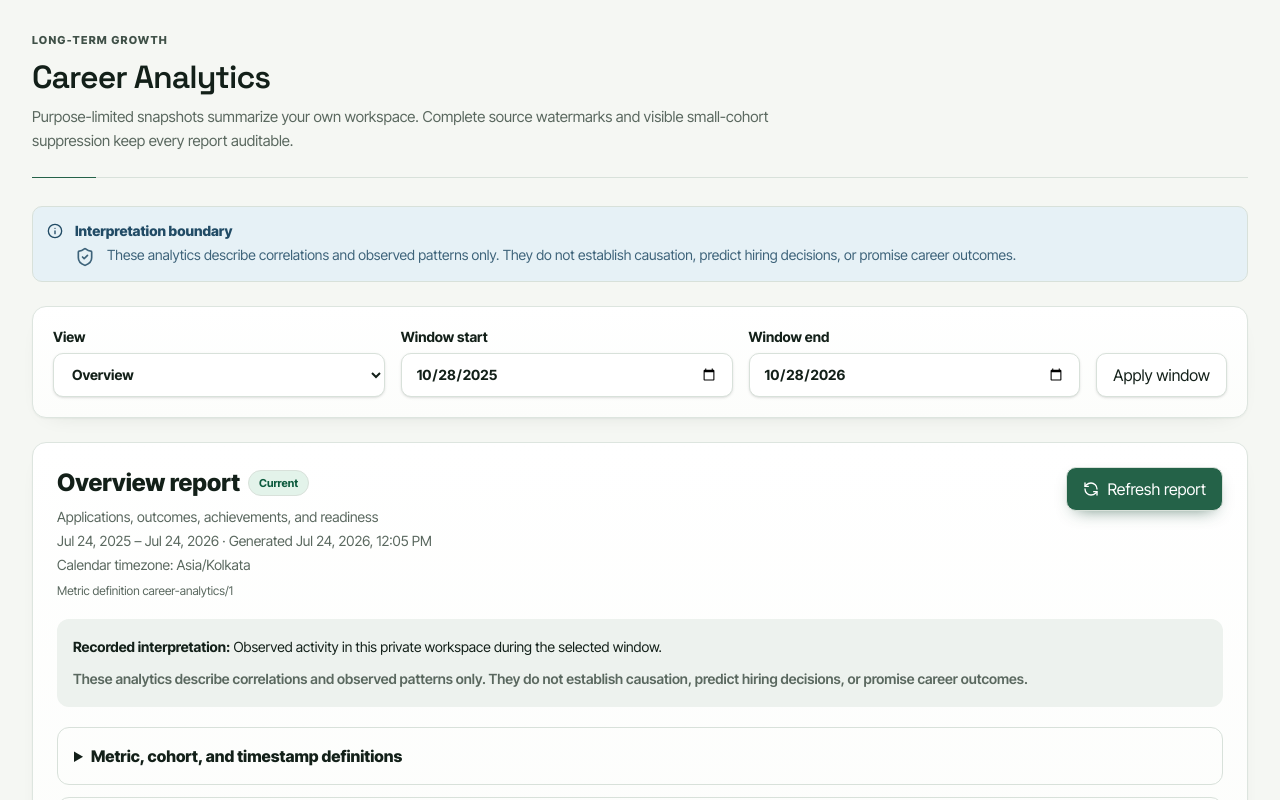
Career Analytics view › polls an accepted refresh and authoritatively reloads the completed report
The width and height of the screenshot is (1280, 800).
Expected: the heading "Overview report" is shown, [57,466,240,498]
Click the button "Refresh report": (1145, 488) [1066,466,1223,510]
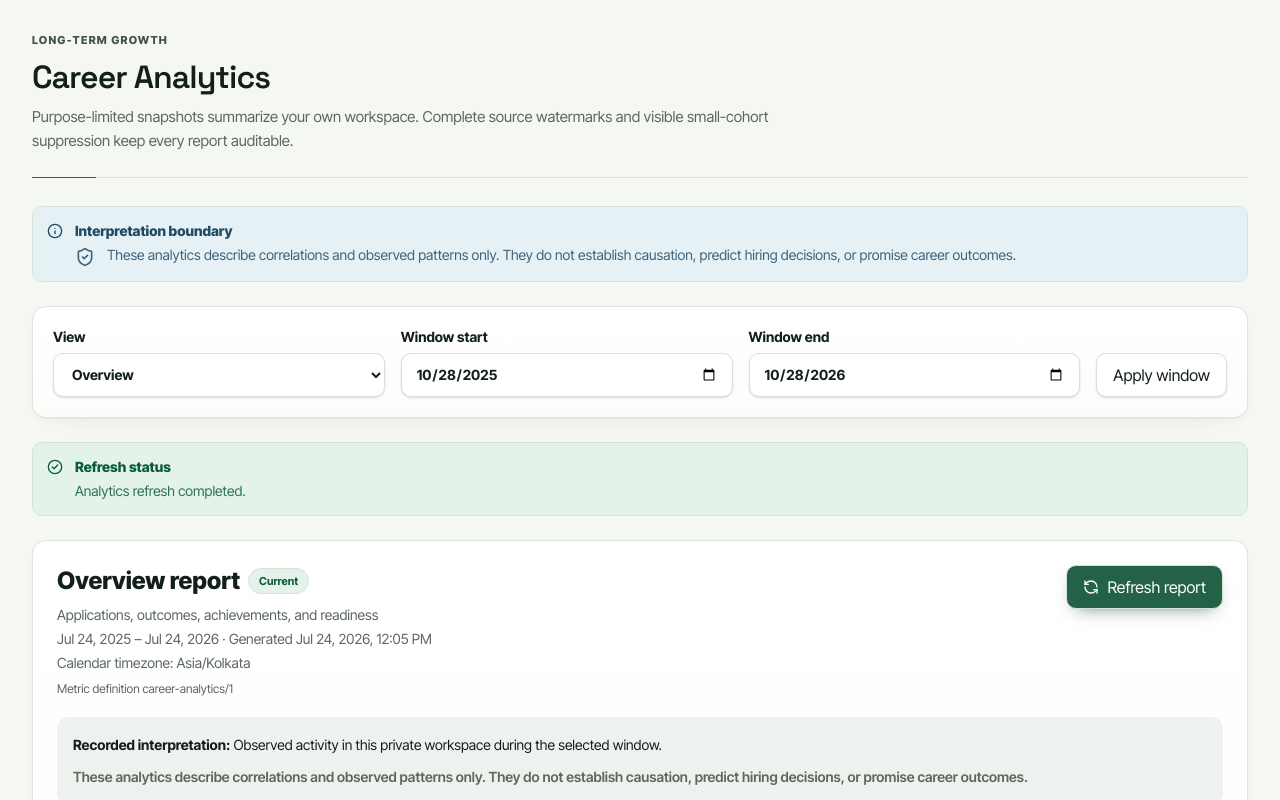
Expected: the text "Analytics refresh completed." is shown, [75,480,246,500]
